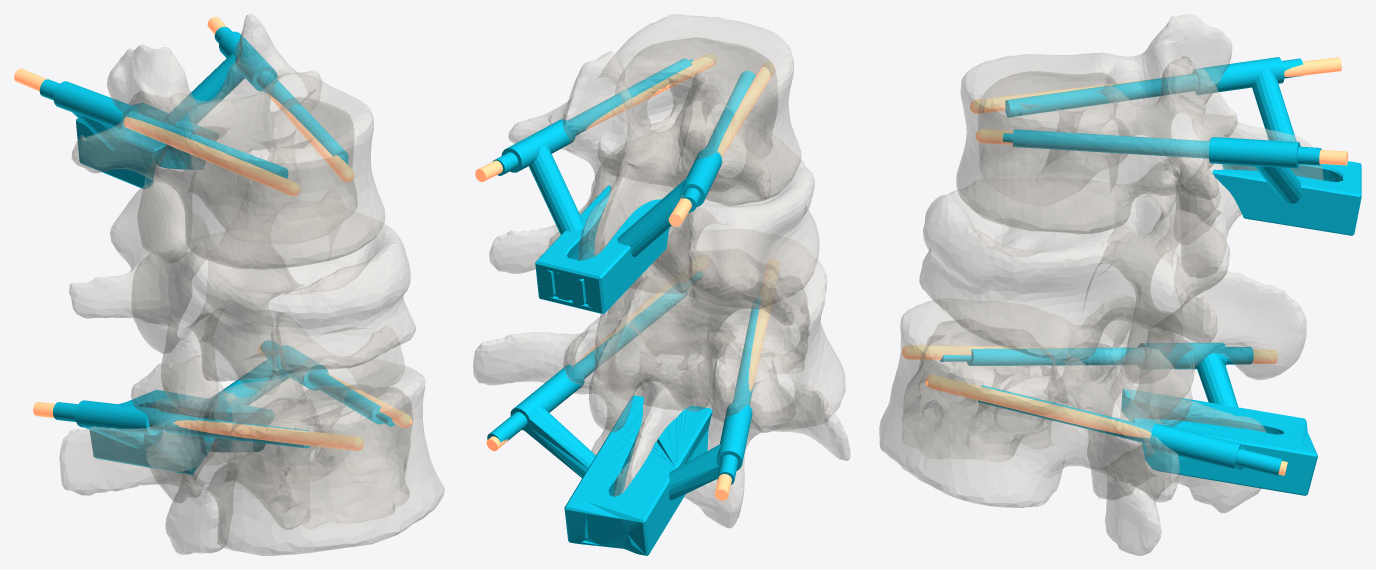
3 views of the same model, side by side, from view 1: azimuth 30°, elevation 25°; view 2: azimuth 150°, elevation 25°; view 3: azimuth 270°, elevation 25° (orthographic). The views are drawn at different scales.
Parts seen in each view (by area): view 1: L3, L1, L2, Guide_L3, Guide_L1, Trajectoires; view 2: L3, L1, L2, Guide_L3, Guide_L1, Trajectoires; view 3: L3, L2, L1, Guide_L1, Guide_L3, Trajectoires.
Boxes of the visible parts, x1,y1,x2,y2 form: L3: (59,312,444,555); L1: (71,14,385,269); L2: (69,181,416,415); Guide_L3: (53,340,394,474); Guide_L1: (39,26,348,189); Trajectoires: (14,16,412,450); L3: (473,229,850,528); L1: (508,14,801,293); L2: (489,135,819,432); Guide_L3: (487,271,761,555); Guide_L1: (492,58,755,314); Trajectoires: (475,53,780,500); L3: (879,297,1266,555); L2: (919,157,1306,420); L1: (956,14,1323,277); Guide_L1: (1003,57,1361,235); Guide_L3: (940,342,1317,495); Trajectoires: (901,57,1348,475).
Size of the model in its own units: 0.0936 by 0.1196 by 0.1091.
